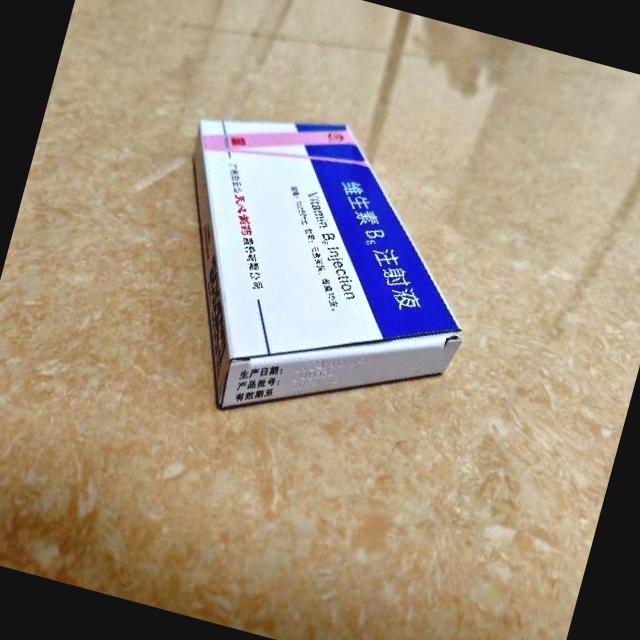box: (127, 87, 504, 463)
